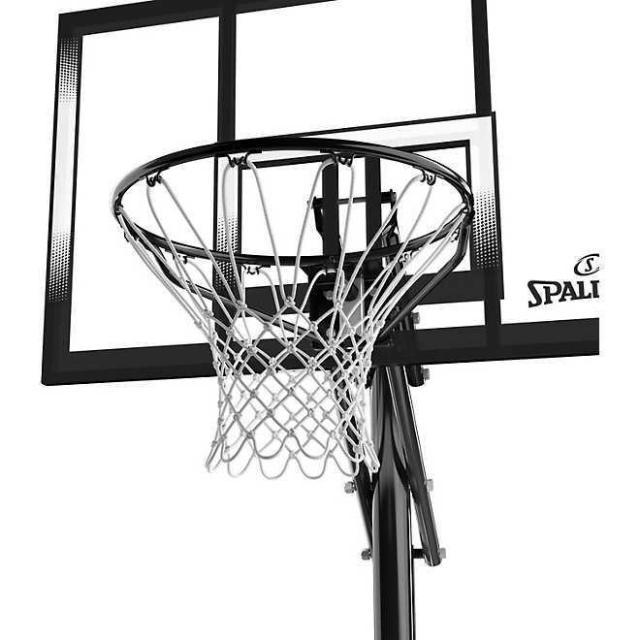hoop: (114, 137, 474, 480)
